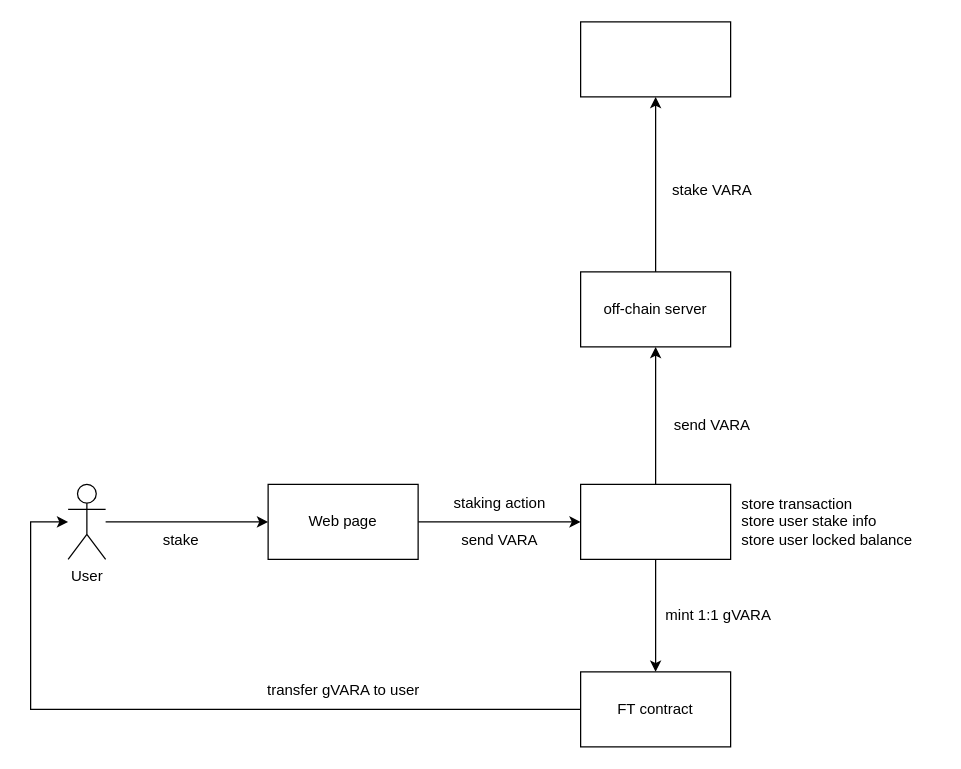
The diagram is 961 pixels wide and 769 high, and some of its shapes have lost their labels. The shapes that lost their labels are listed below. From the top down, each one's box as (x1, y1, x2, y2) in pixels, then its label:
(579, 21, 731, 97): stakin pallet
(579, 483, 731, 559): Luiquidity contract
